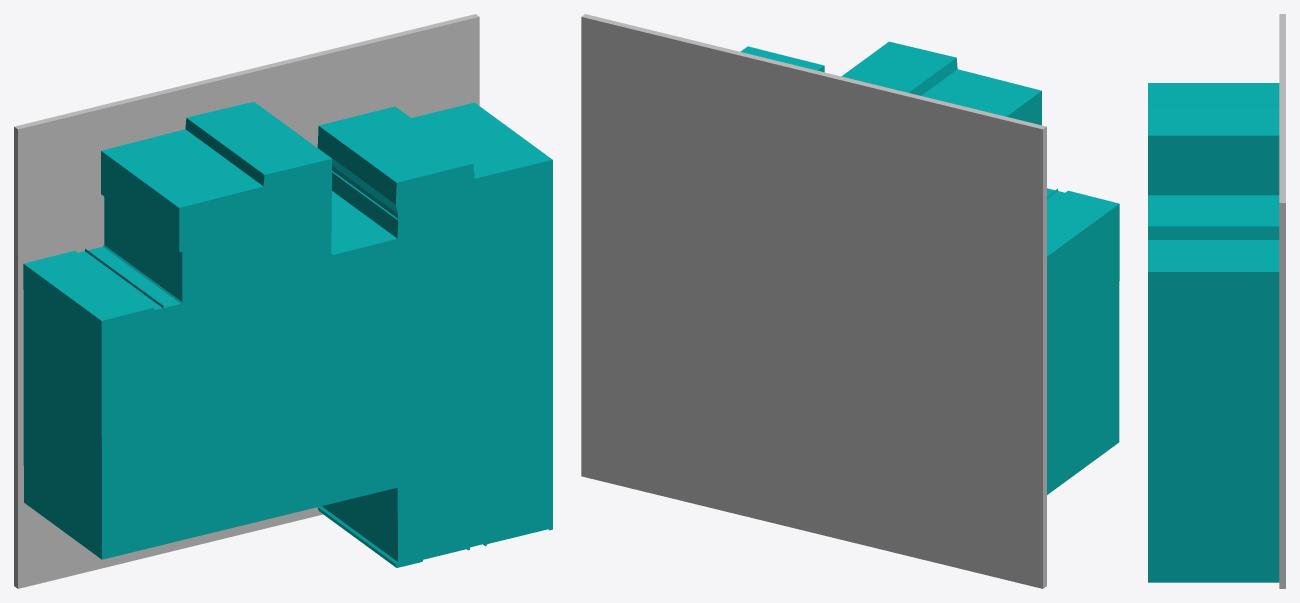
3 renders of one model, left to right at view 1: azimuth 30°, elevation 25°; view 2: azimuth 150°, elevation 25°; view 3: azimuth 270°, elevation 25°, orthographic. The views are drawn at different scales.
Visible parts, largest first — view 1: world; view 2: world; view 3: world.
Boxes of the visible parts, x1,y1,x2,y2 form: world: [14, 14, 552, 588]; world: [581, 14, 1119, 588]; world: [1148, 14, 1285, 588].
Size of the model in its own units: 10.23 by 9.73 by 3.15.
